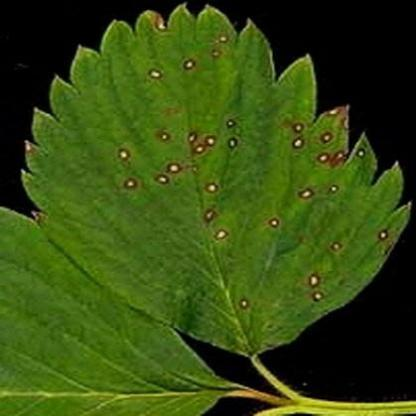Strawberry_Leaf_Spot: (20, 2, 413, 358)
